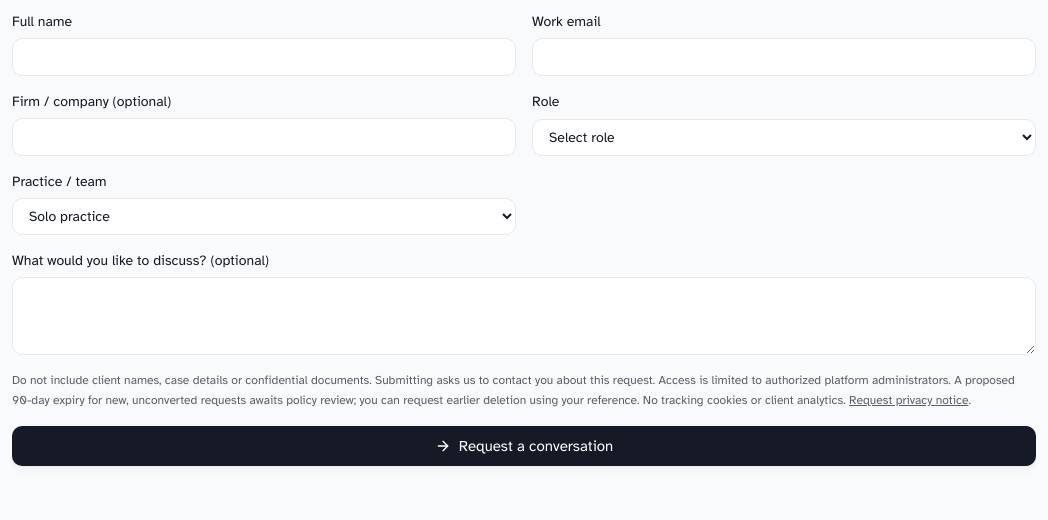
Test: seo_demo_20261009 public form › keeps one immutable key after timeout and never automatically retries
Type "Demo Advocate" into the field labelled "Full name" at (264, 57), box top-left (12, 38), bottom-right (516, 76)
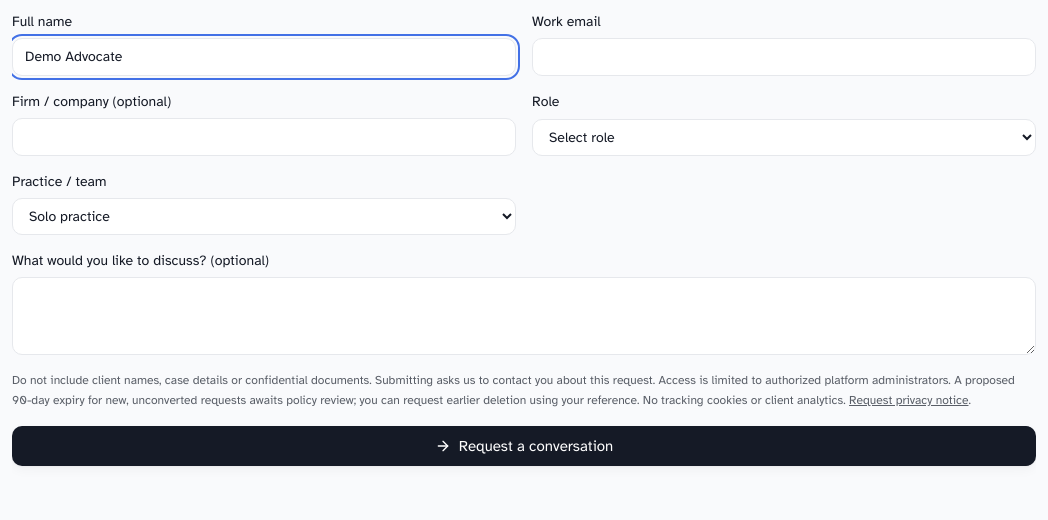
Type "demo@example.com" into the field labelled "Work email" at (784, 57), box top-left (532, 38), bottom-right (1036, 76)
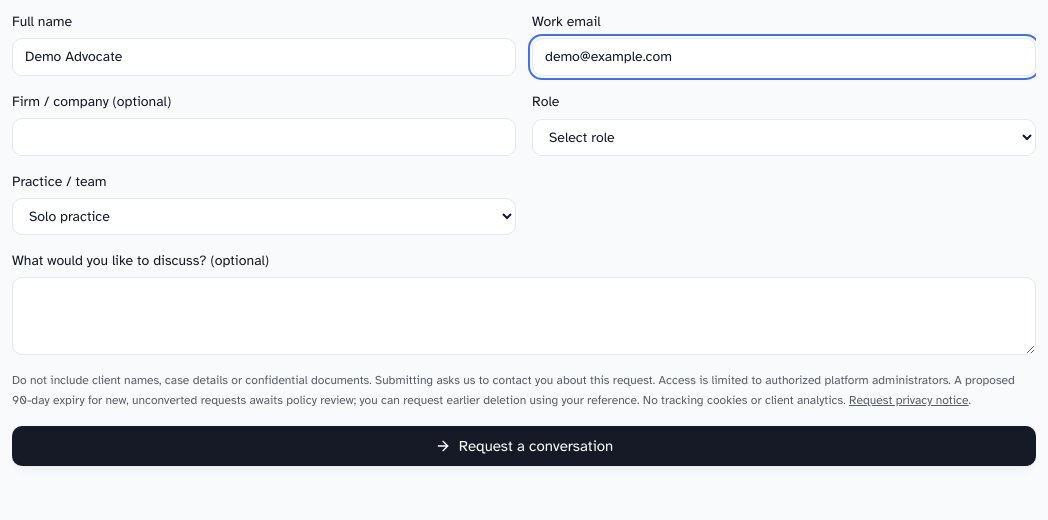
Select "Solo advocate" in the dropdown labelled "Role" at (784, 137), box top-left (532, 118), bottom-right (1036, 156)
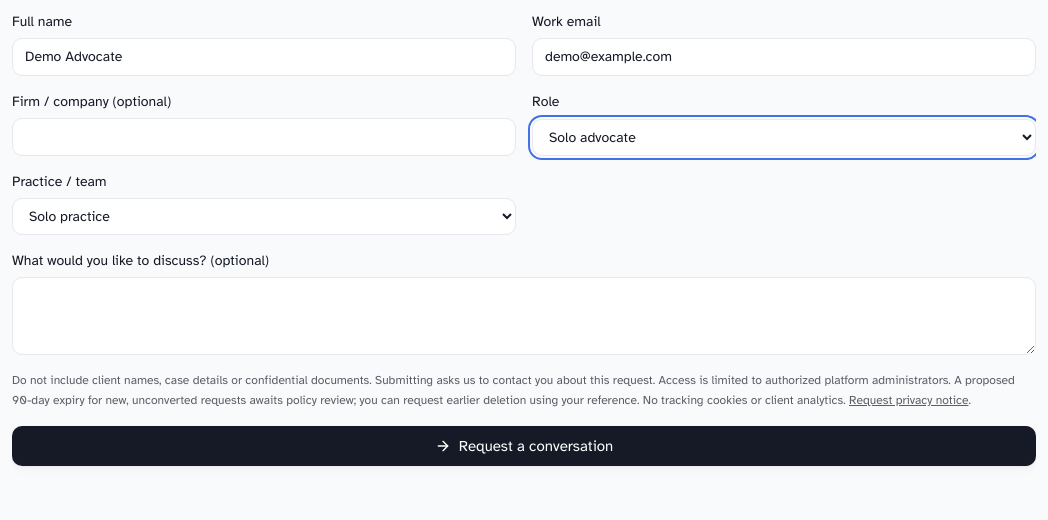
Click the button "Request a conversation" at (524, 446), box top-left (12, 426), bottom-right (1036, 466)
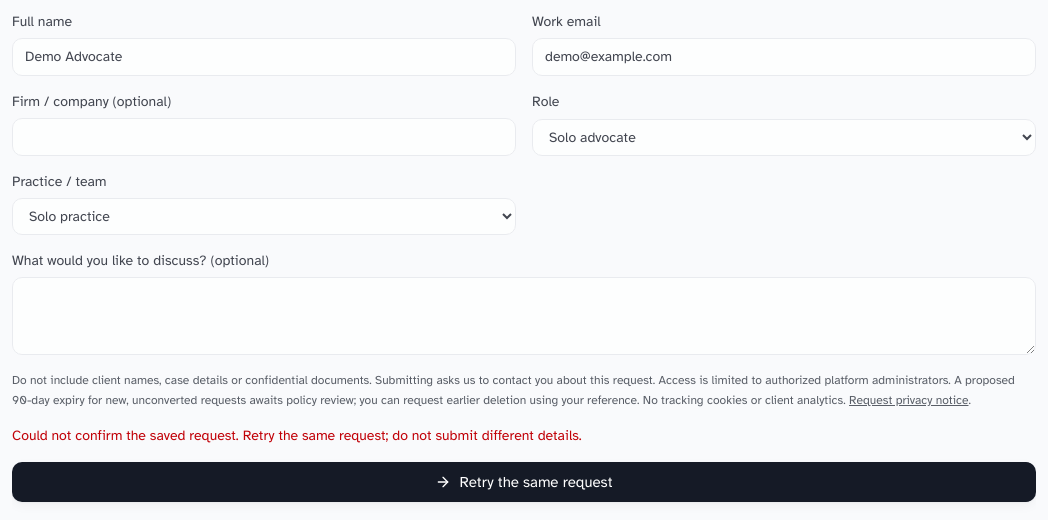
Expected: the field labelled "Full name" is disabled, top-left (12, 38), bottom-right (516, 76)
Expected: the message is shown, top-left (12, 427), bottom-right (582, 444)
Click the button "Retry the same request" at (524, 482), box top-left (12, 462), bottom-right (1036, 502)
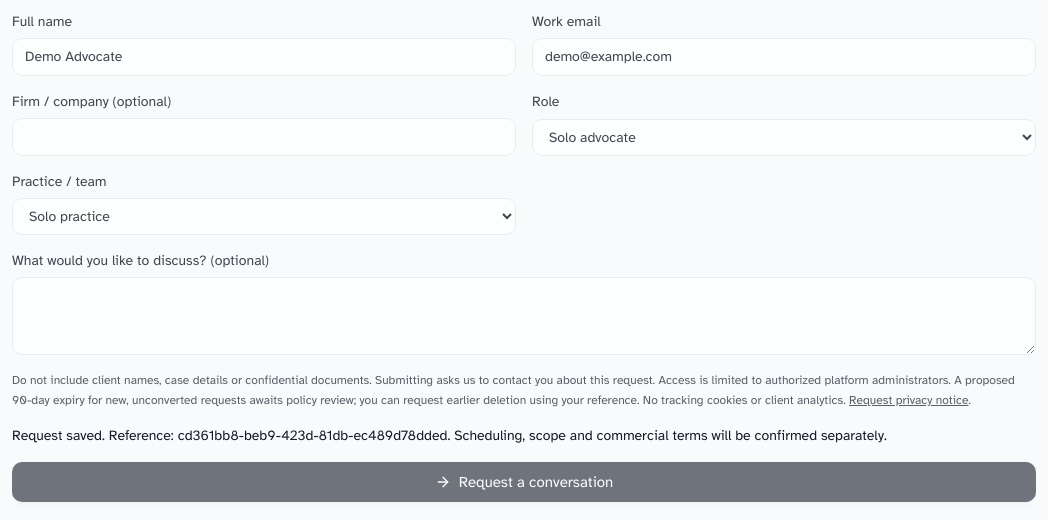
Expected: the message shows "Request saved.", top-left (12, 427), bottom-right (178, 444)
